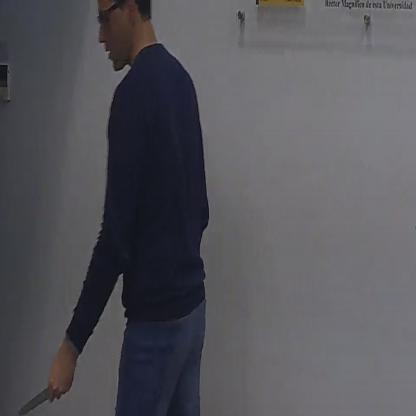knife: (11, 370, 73, 415)
